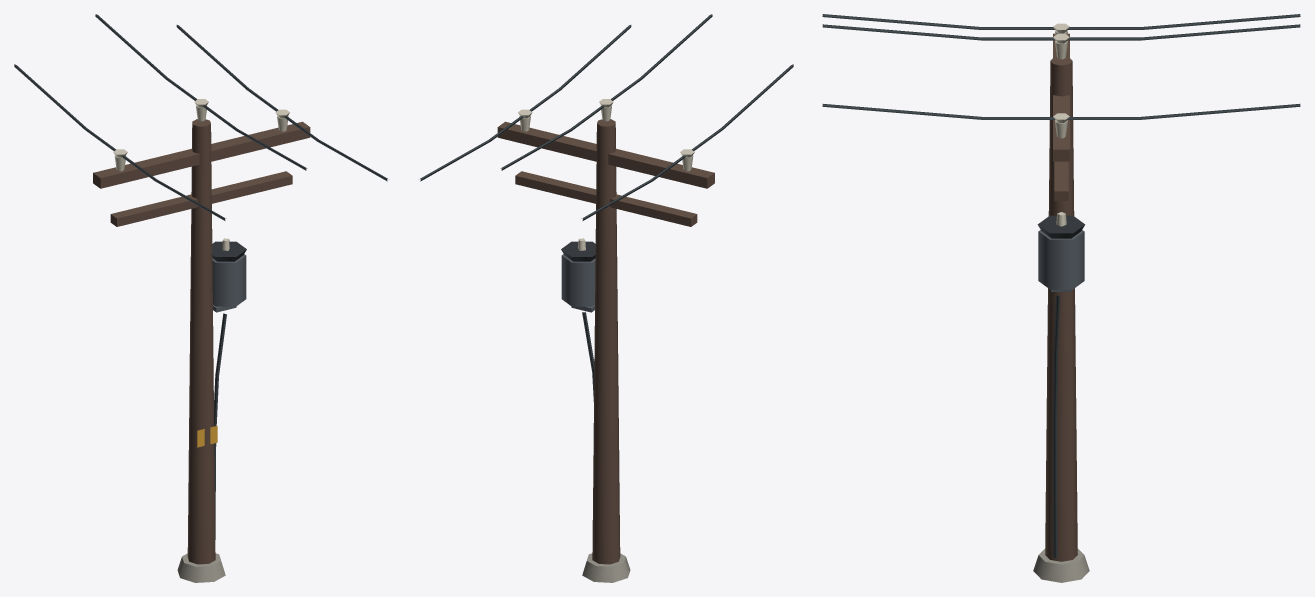
File: electric-utility-pole.glb
The picture shows the model from 3 angles, left to right: view 1: azimuth 30°, elevation 25°; view 2: azimuth 150°, elevation 25°; view 3: azimuth 270°, elevation 25°; orthographic projection. The views are drawn at different scales.
Visible parts, largest first — view 1: Merged_utility-pole-timber, Merged_utility-cable, Merged_city-metal, Merged_city-curb, Merged_utility-insulator, Merged_city-metal-dark; view 2: Merged_utility-pole-timber, Merged_utility-cable, Merged_city-metal, Merged_city-curb, Merged_utility-insulator, Merged_city-metal-dark; view 3: Merged_utility-pole-timber, Merged_utility-cable, Merged_city-metal, Merged_city-curb, Merged_utility-insulator, Merged_city-metal-dark.
Part boxes in pixels (x1,y1,x2,y2): Merged_utility-pole-timber: (93, 119, 310, 564); Merged_utility-cable: (14, 14, 387, 539); Merged_city-metal: (212, 254, 246, 312); Merged_city-curb: (177, 553, 225, 582); Merged_utility-insulator: (113, 99, 289, 250); Merged_city-metal-dark: (212, 241, 246, 261); Merged_utility-pole-timber: (497, 119, 714, 564); Merged_utility-cable: (420, 14, 793, 401); Merged_city-metal: (561, 254, 595, 312); Merged_city-curb: (582, 553, 630, 582); Merged_utility-insulator: (518, 99, 694, 250); Merged_city-metal-dark: (561, 241, 595, 261); Merged_utility-pole-timber: (1045, 33, 1077, 561); Merged_utility-cable: (822, 14, 1300, 558); Merged_city-metal: (1038, 230, 1084, 291); Merged_city-curb: (1033, 548, 1089, 582); Merged_utility-insulator: (1053, 23, 1069, 226); Merged_city-metal-dark: (1037, 215, 1085, 238).
Size of what is drawn, in the model's own units: 3.1 by 6.81 by 5.4.
